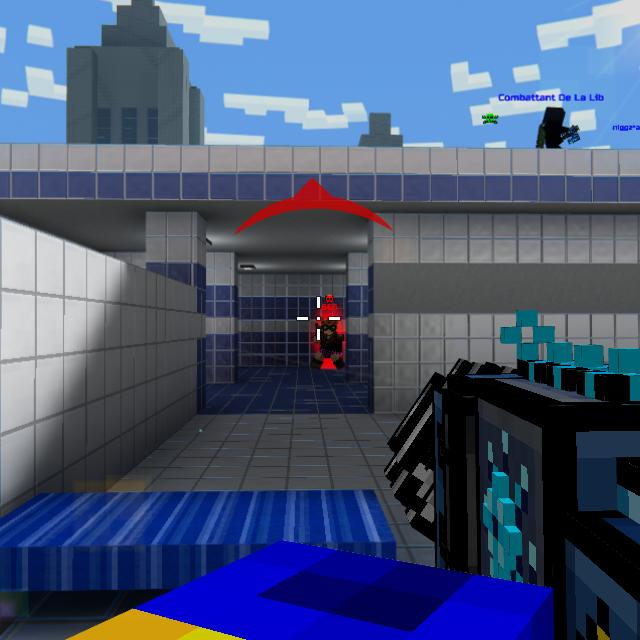Enemy: (311, 320, 344, 370)
